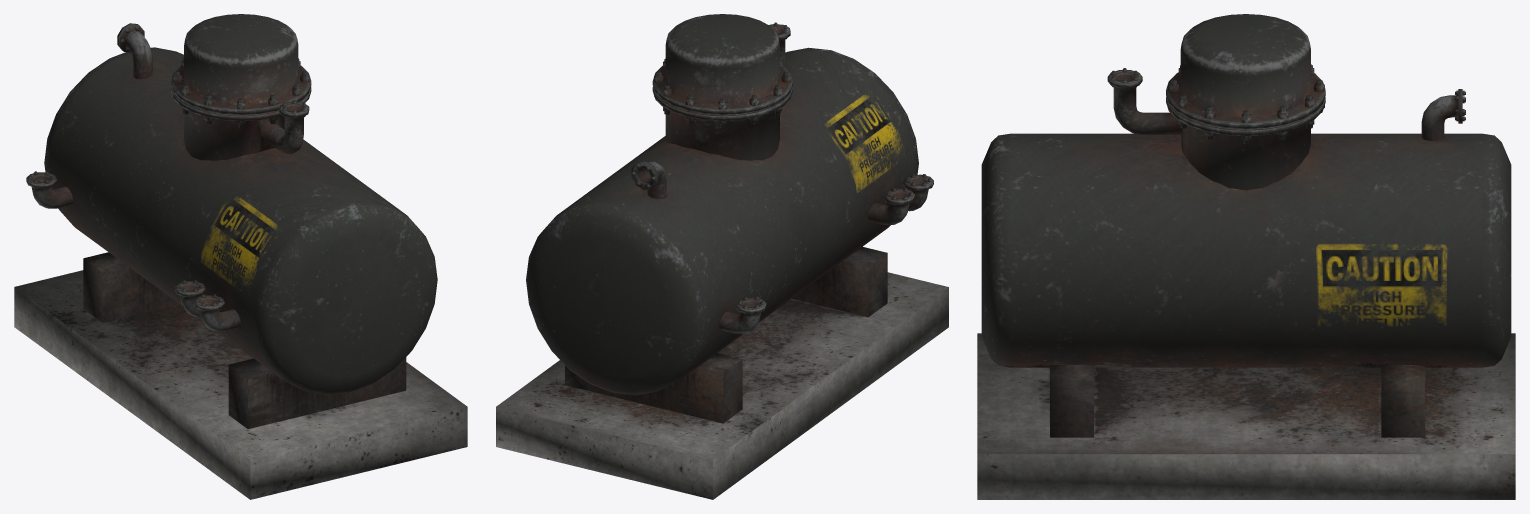
Rendered from Industrial Deaerator.fbx.
3 views of the same model, side by side, from view 1: azimuth 30°, elevation 25°; view 2: azimuth 150°, elevation 25°; view 3: azimuth 270°, elevation 25° (orthographic). The views are drawn at different scales.
Parts seen in each view (by area): view 1: mesh0.dat.desirefx.me_.obj; view 2: mesh0.dat.desirefx.me_.obj; view 3: mesh0.dat.desirefx.me_.obj.
Boxes of the visible parts, x1=… form: mesh0.dat.desirefx.me_.obj: x1=14, y1=14, x2=467, y2=499; mesh0.dat.desirefx.me_.obj: x1=496, y1=14, x2=948, y2=499; mesh0.dat.desirefx.me_.obj: x1=977, y1=14, x2=1515, y2=499.
Bounding box in the file's own units: 11.54 × 16.6 × 20.
